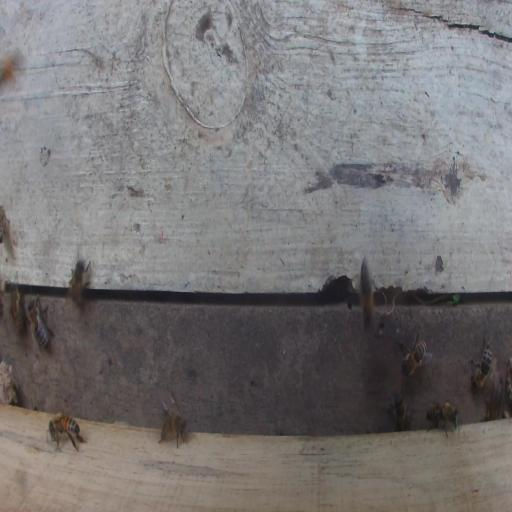nonpollenbee: (26, 294, 54, 356), (47, 412, 85, 453), (158, 399, 189, 448), (400, 332, 430, 378), (425, 400, 460, 438), (468, 336, 492, 390), (357, 255, 374, 331), (4, 275, 25, 333), (67, 259, 91, 307), (392, 392, 414, 432), (485, 385, 504, 420)
